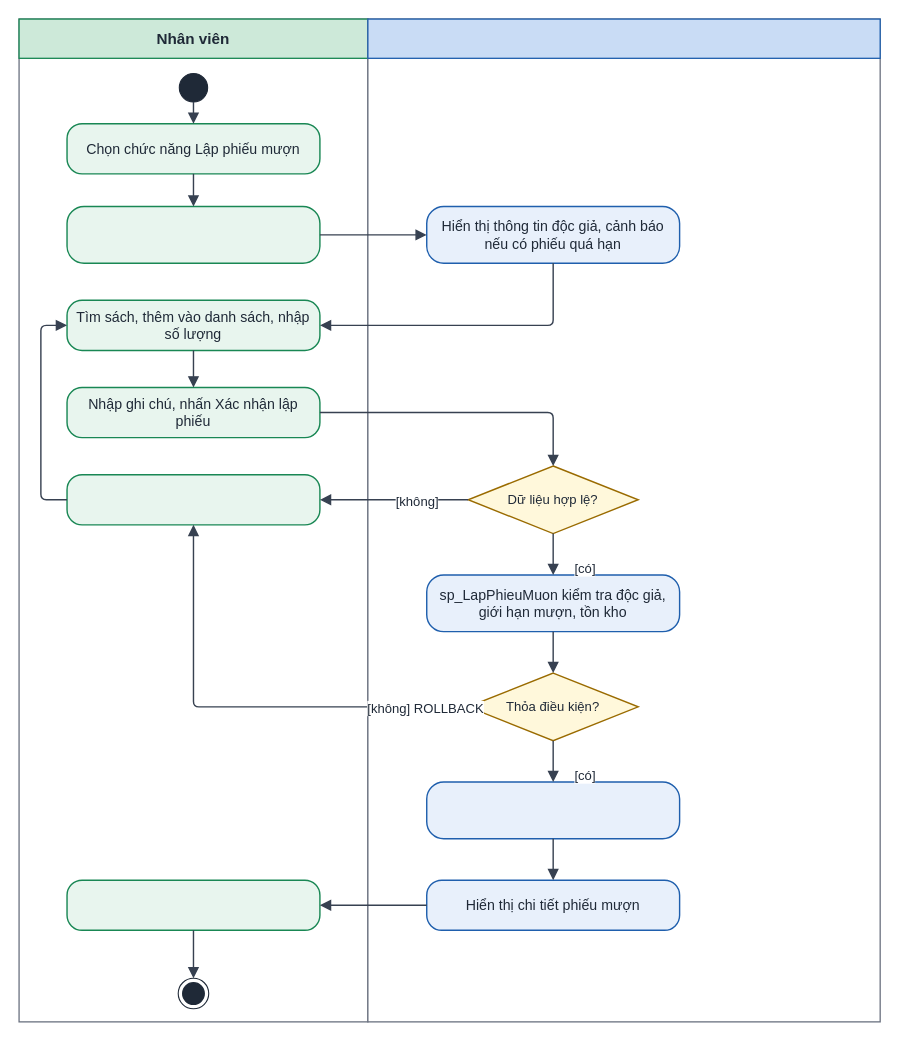
The diagram is 900 pixels wide and 1042 high, and some of its shapes have lost their labels. Each missing label, with the centre of its shape:
"Hệ thống" goes at [623,38].
"Tìm và chọn độc giả" goes at [193,234].
"Tạo PhieuMuon, CTPhieuMuon; trừ tồn kho (COMMIT)" goes at [553,810].
"Xem phiếu mượn vừa lập" goes at [193,905].
"Xem thông báo lỗi" goes at [193,499].
